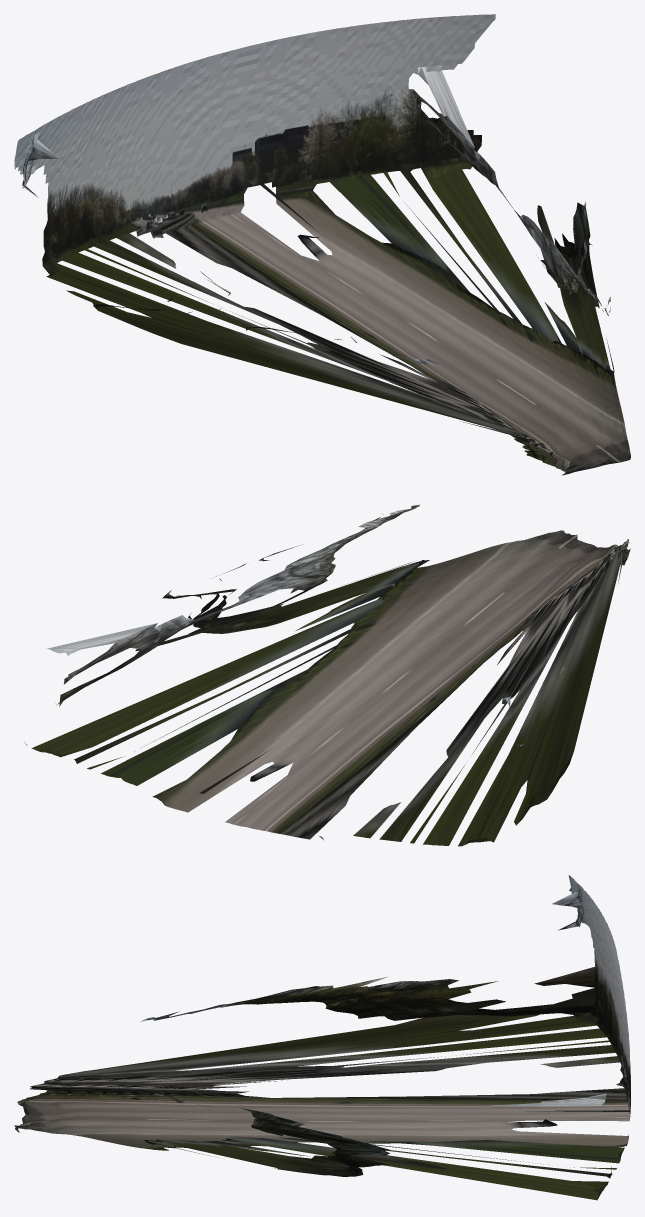
3 renders of one model, top to bottom at view 1: azimuth 30°, elevation 25°; view 2: azimuth 150°, elevation 25°; view 3: azimuth 270°, elevation 25°, orthographic. The views are drawn at different scales.
Parts seen in each view (by area): view 1: defaultobject; view 2: defaultobject; view 3: defaultobject.
Boxes of the visible parts, x1=… form: defaultobject: x1=14, y1=14, x2=630, y2=475; defaultobject: x1=24, y1=504, x2=630, y2=846; defaultobject: x1=14, y1=875, x2=630, y2=1200.
Size of the model in its own units: 35.28 by 11.77 by 44.74.
1 material, 1 textured.
